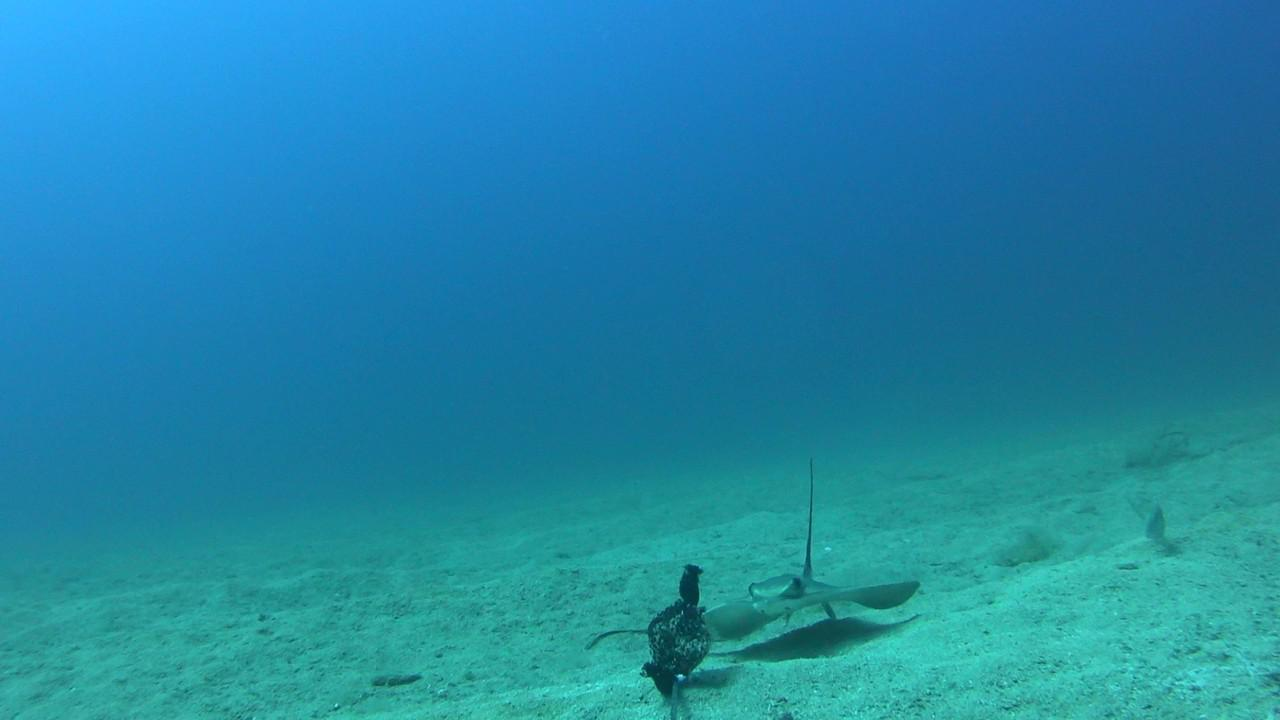myliobatis: (623, 443, 949, 676)
